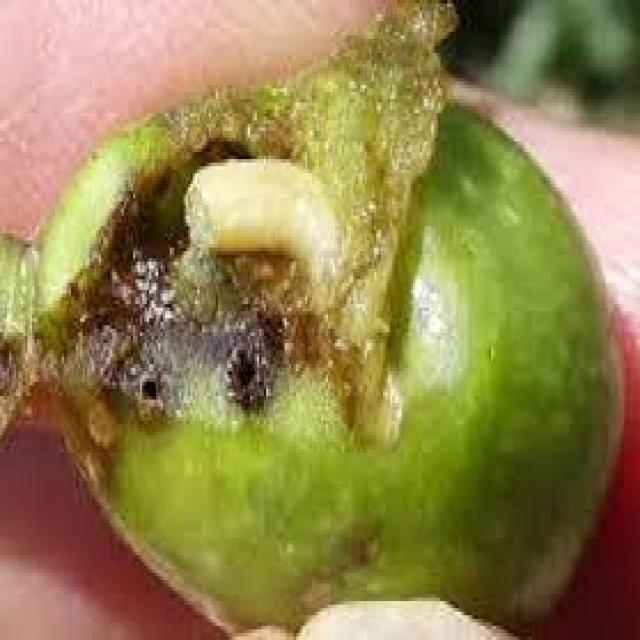Olive Fruit Fly: (0, 0, 615, 633)
